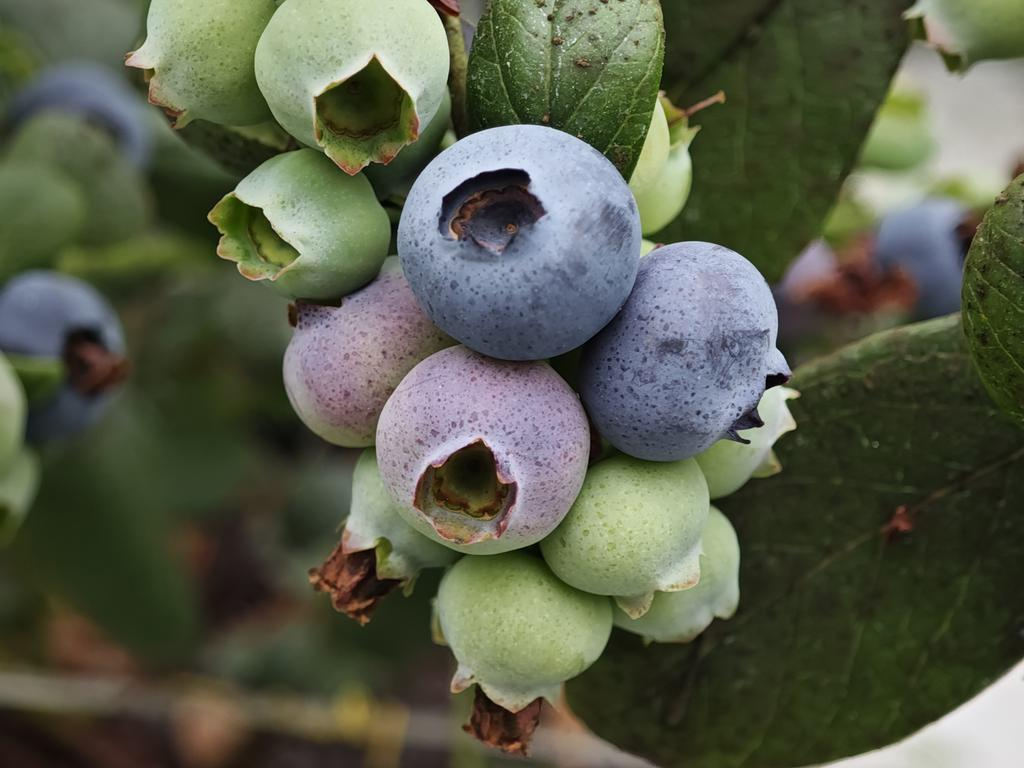RipeBlueBerry: (394, 118, 643, 364), (593, 235, 786, 466)
Semi-RipeBlueBerry: (372, 339, 597, 562)
